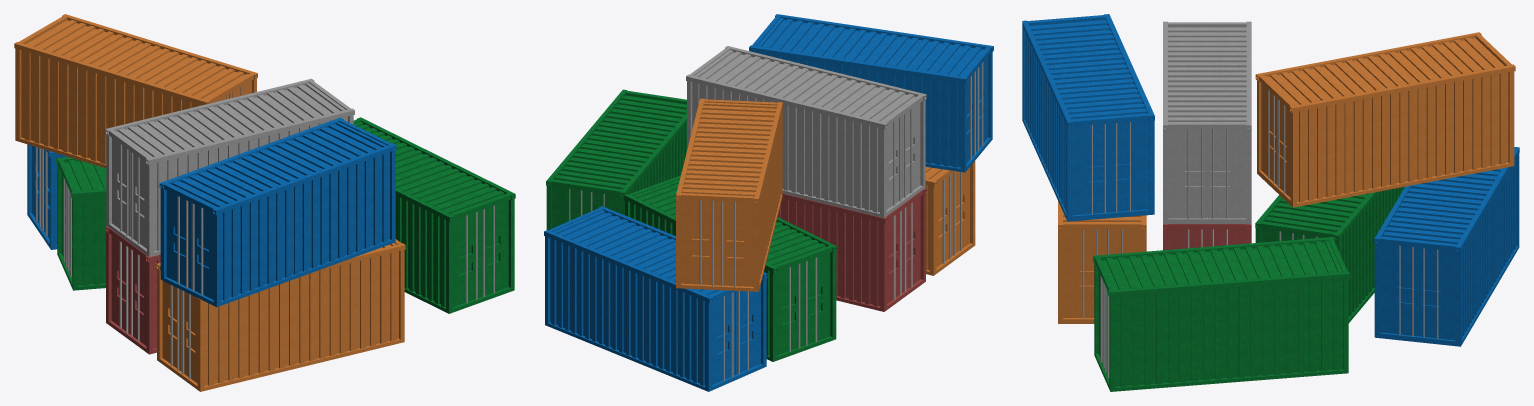
Rendered from low_poly_container_yard.glb.
3 renders of one model, left to right at view 1: azimuth 30°, elevation 25°; view 2: azimuth 150°, elevation 25°; view 3: azimuth 270°, elevation 25°, orthographic. The views are drawn at different scales.
Parts seen in each view (by area): view 1: Material2 (×7); view 2: Material2 (×7); view 3: Material2 (×6).
Part boxes in pixels (left/top/right/bottom): Material2 (×7): left=14, top=14, right=515, bottom=391; Material2 (×7): left=544, top=14, right=993, bottom=391; Material2 (×6): left=1022, top=14, right=1519, bottom=391.
Size of the model in its own units: 331 by 173 by 390.
7 materials, 5 textured.
